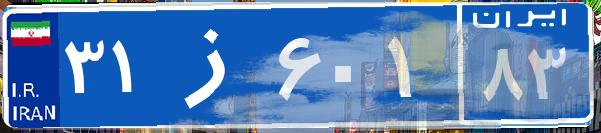0: (330, 28, 385, 110)
1: (385, 28, 445, 110), (110, 28, 158, 105)
3: (57, 26, 110, 107), (525, 38, 570, 115)
6: (273, 28, 330, 110)
8: (475, 38, 525, 113)
ز: (158, 15, 273, 115)
